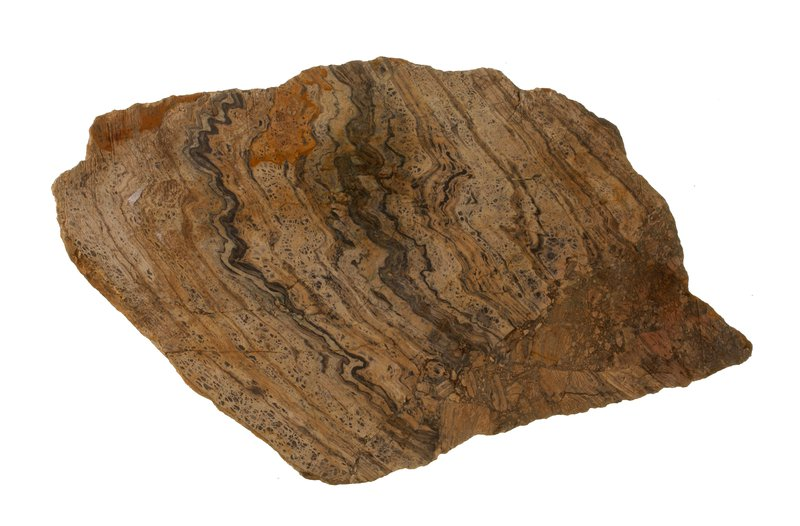volcanic_rock: (33, 37, 798, 494)
